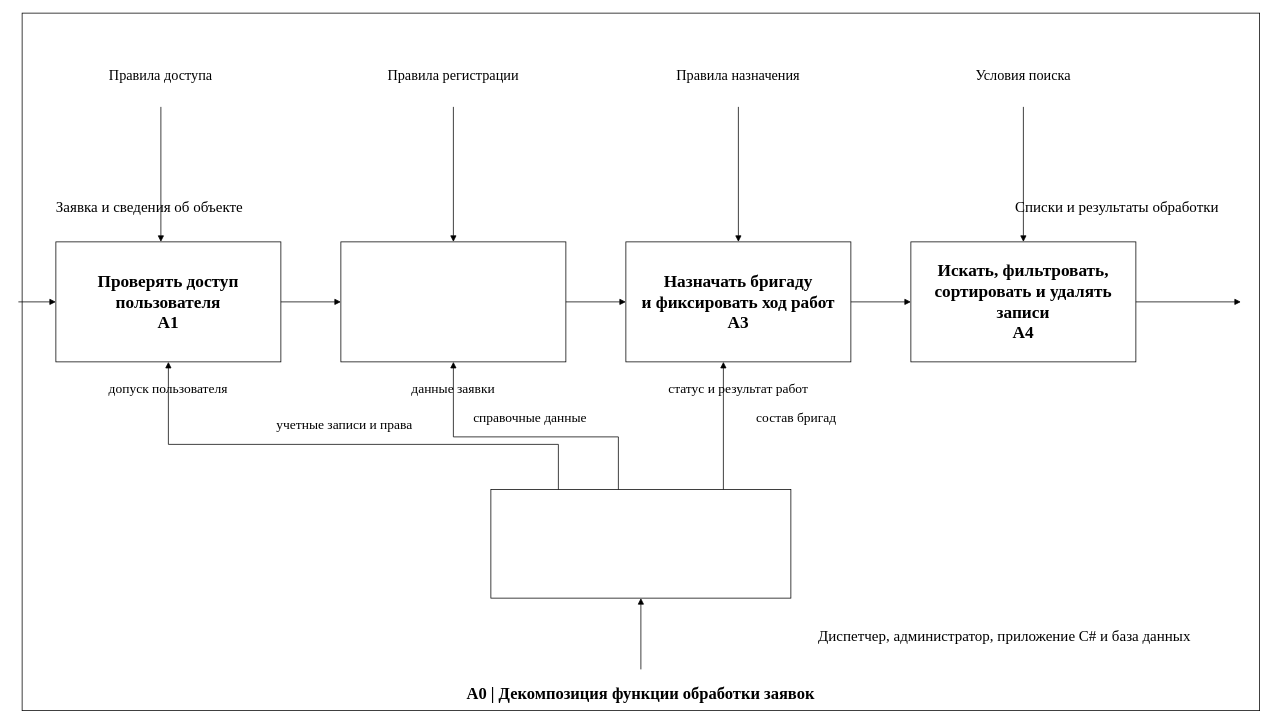
Image size: 1273x724. Some labels were removed from this diagram. The centre of each missing label's shape, as x and y in pixels:
"Администрировать учетные записи и справочники A5" belongs at (x=640, y=543).
"Регистрировать, просматривать и изменять заявки A2" belongs at (x=453, y=301).
